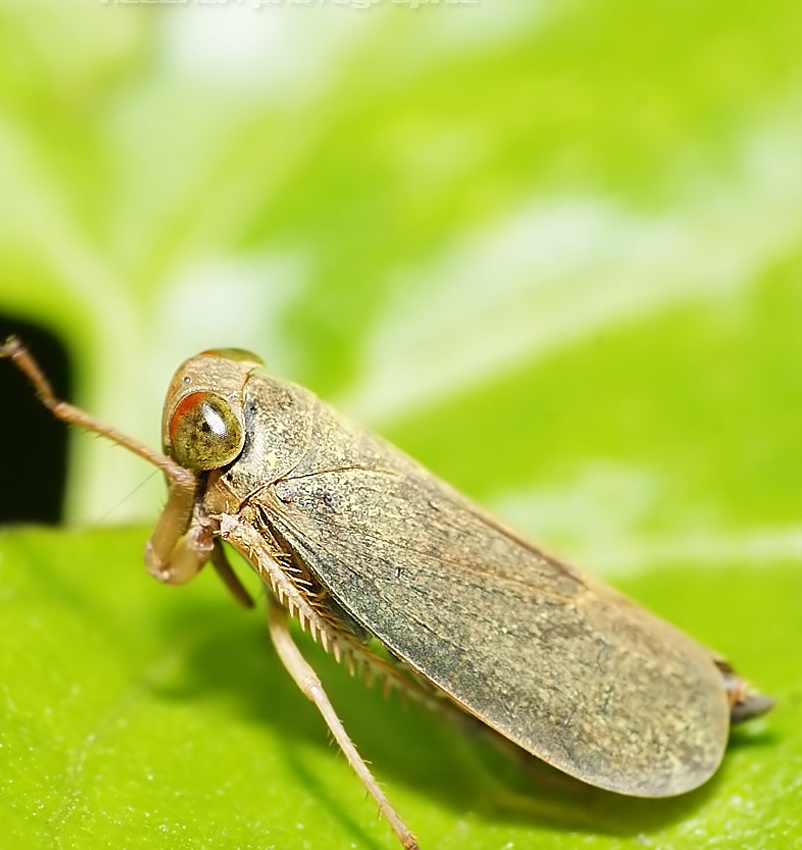Brown_hopper: (21, 321, 777, 832)
